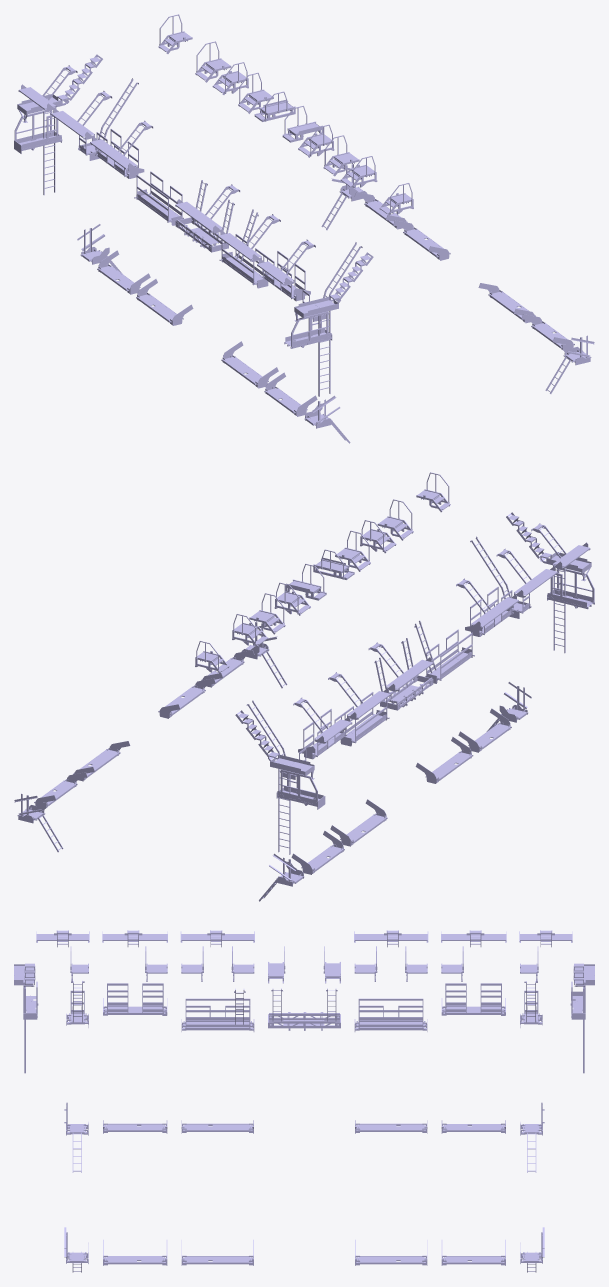
File: Access-Platforms-Even-Sectors-cut3.glb
3 views of the same model, one above another, from view 1: azimuth 30°, elevation 25°; view 2: azimuth 150°, elevation 25°; view 3: azimuth 270°, elevation 25° (orthographic).
Visible parts, largest first — view 1: S__00000216558D5CA0; view 2: S__00000216558D5CA0; view 3: S__00000216558D5CA0.
Part boxes in pixels (x1,y1,x2,y2): S__00000216558D5CA0: [14, 14, 594, 443]; S__00000216558D5CA0: [14, 472, 594, 901]; S__00000216558D5CA0: [14, 930, 594, 1272].
Size of the model in its own units: 15.12 by 10.93 by 22.96.
